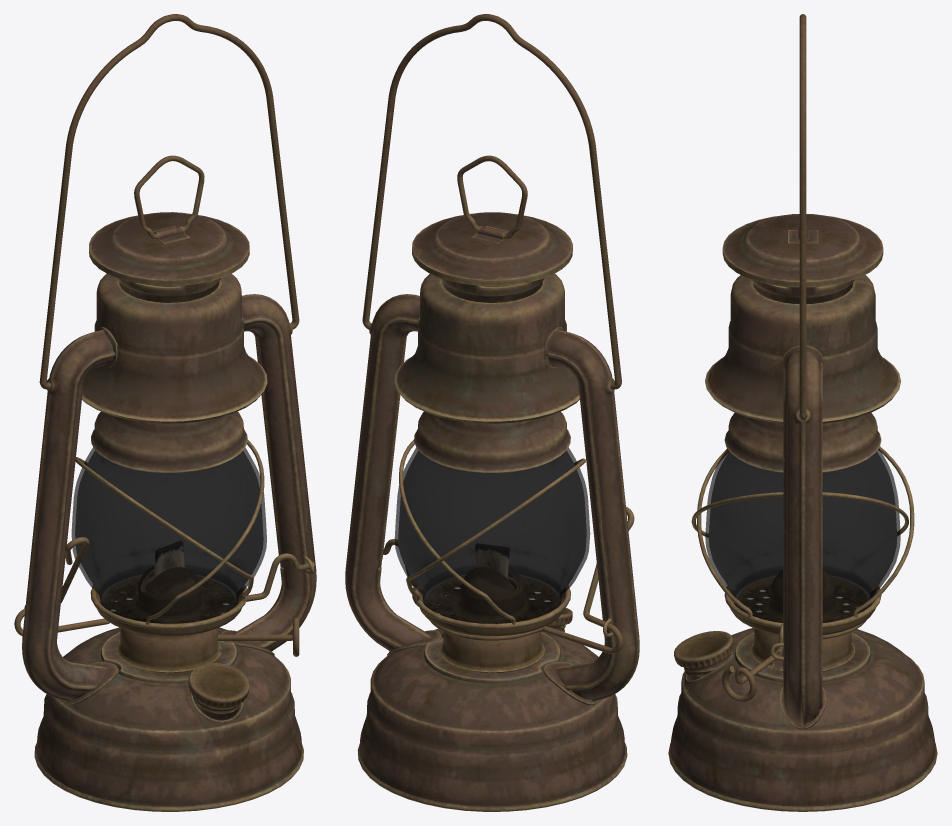
File: lantern.gltf
3 views of the same model, side by side, from view 1: azimuth 30°, elevation 25°; view 2: azimuth 150°, elevation 25°; view 3: azimuth 270°, elevation 25° (orthographic).
Parts seen in each view (by area): view 1: lantern; view 2: lantern; view 3: lantern.
Part boxes in pixels (x1,y1,x2,y2): lantern: [14, 14, 316, 811]; lantern: [345, 14, 639, 811]; lantern: [668, 14, 937, 811].
Size of the model in its own units: 0.1221 by 0.2942 by 0.0972.
Materials: 2 (2 with a texture image).
